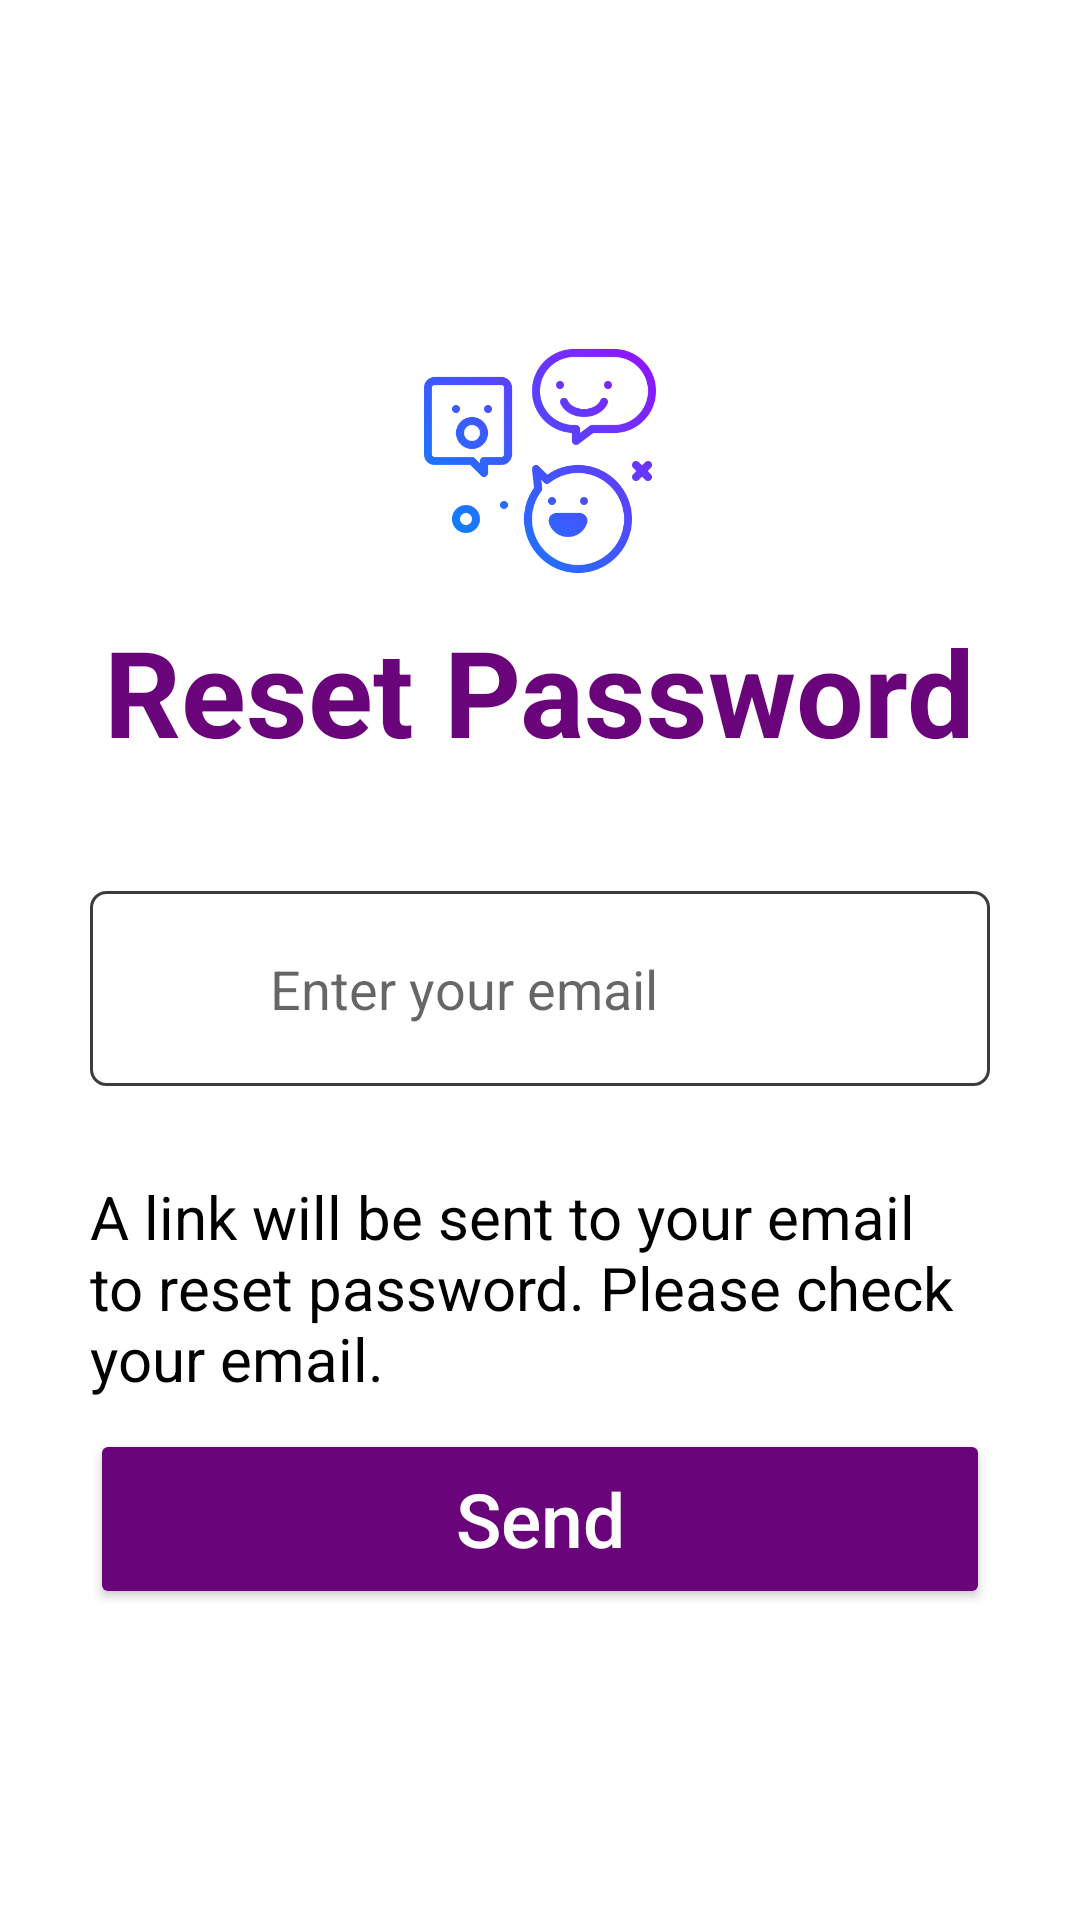

Screen size 1080x1920. Icon name, then its center in pixels as (x=x, y=y):
chat: (x=540, y=461)
